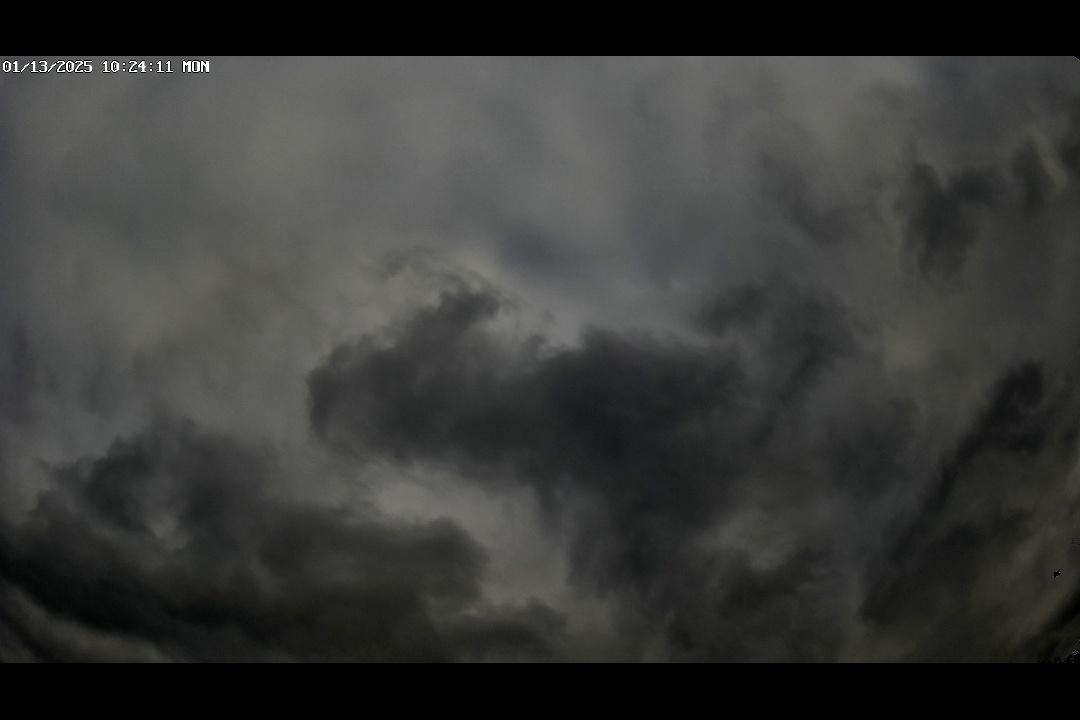WildLife: (1044, 565, 1065, 581)
